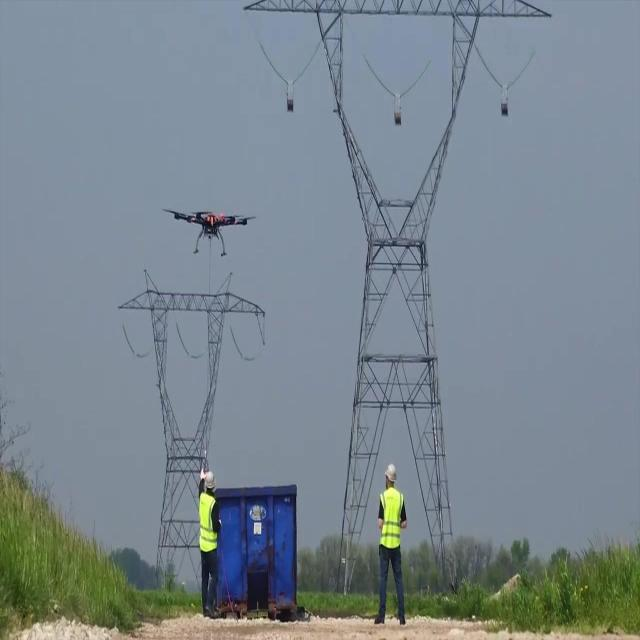drone: (164, 204, 257, 258)
